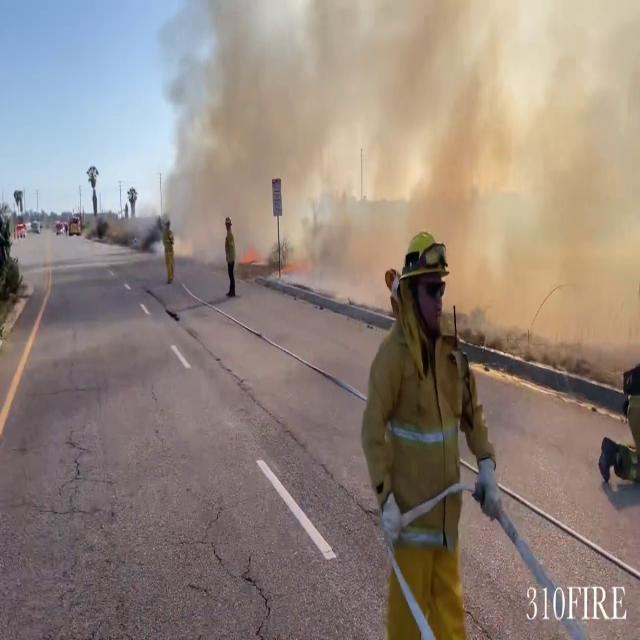Smoke: (157, 0, 640, 313)
